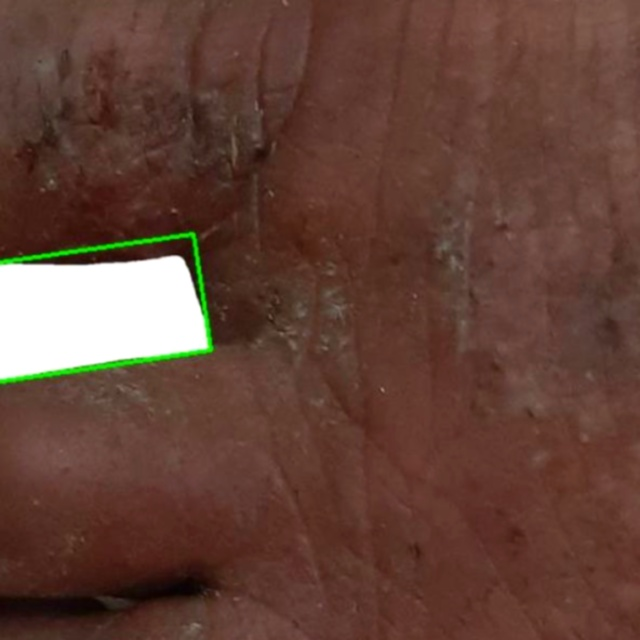Eczema: (0, 234, 213, 384)
